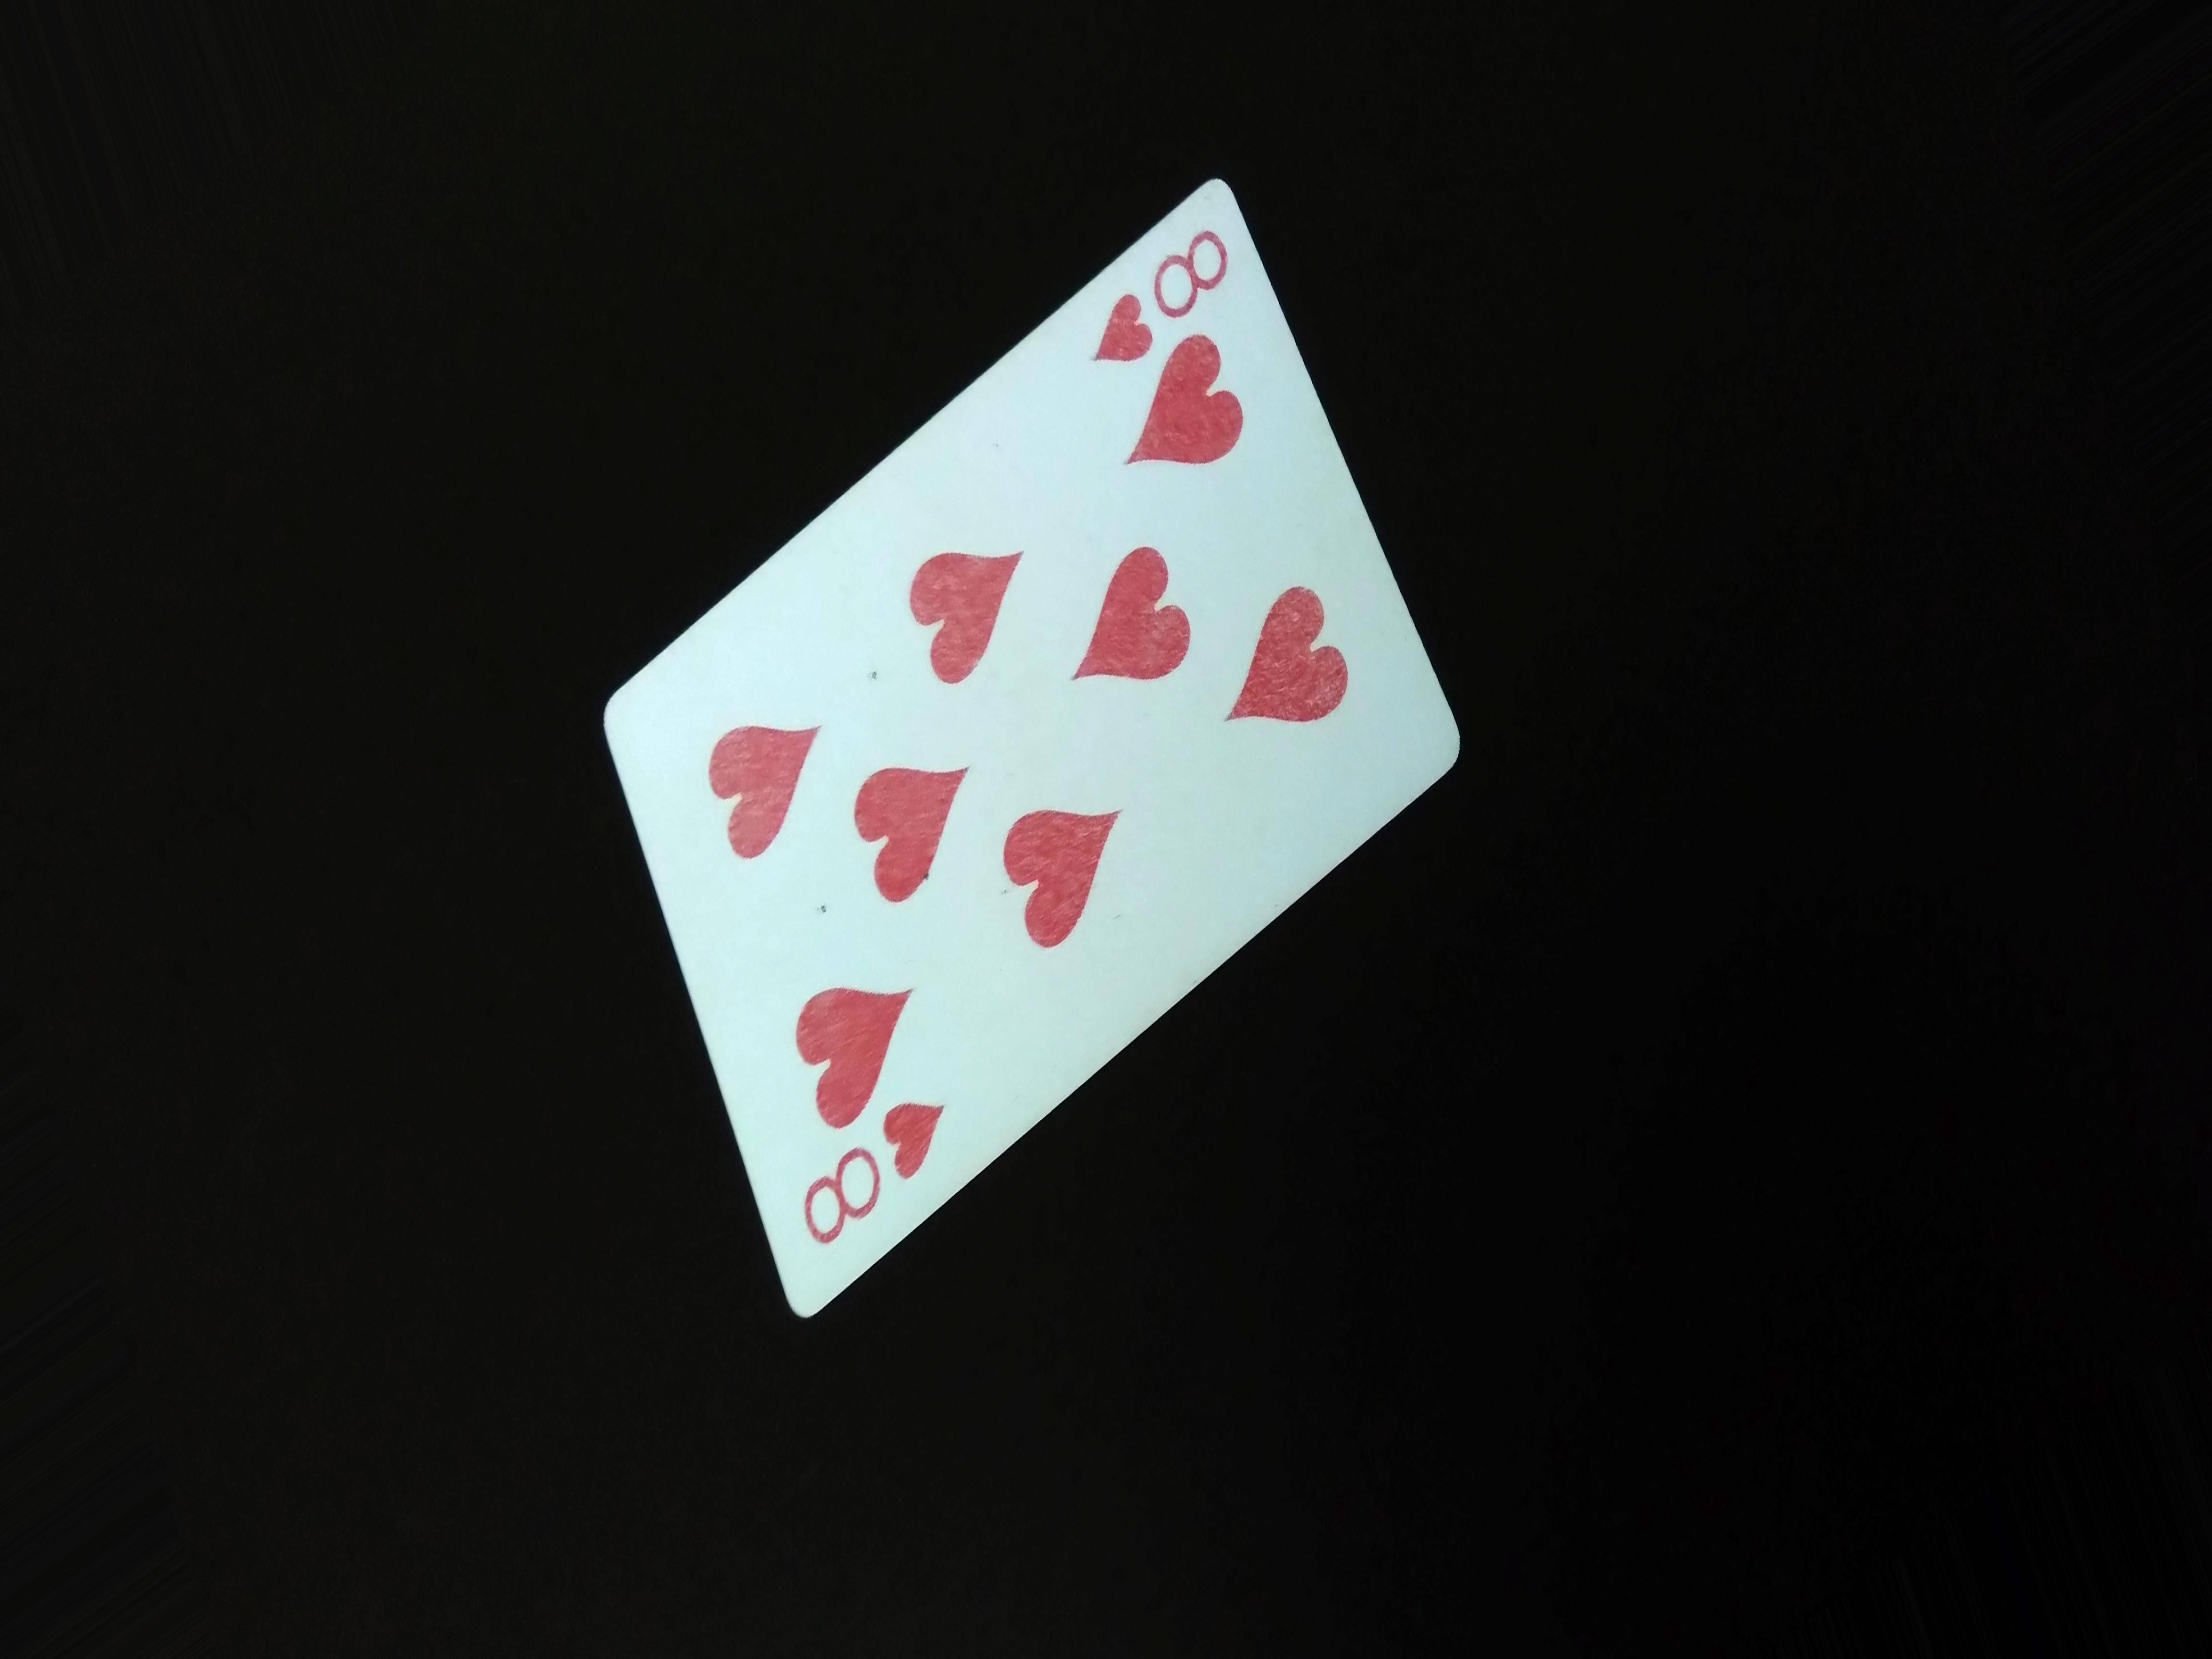8H: (1097, 216, 1231, 394)
